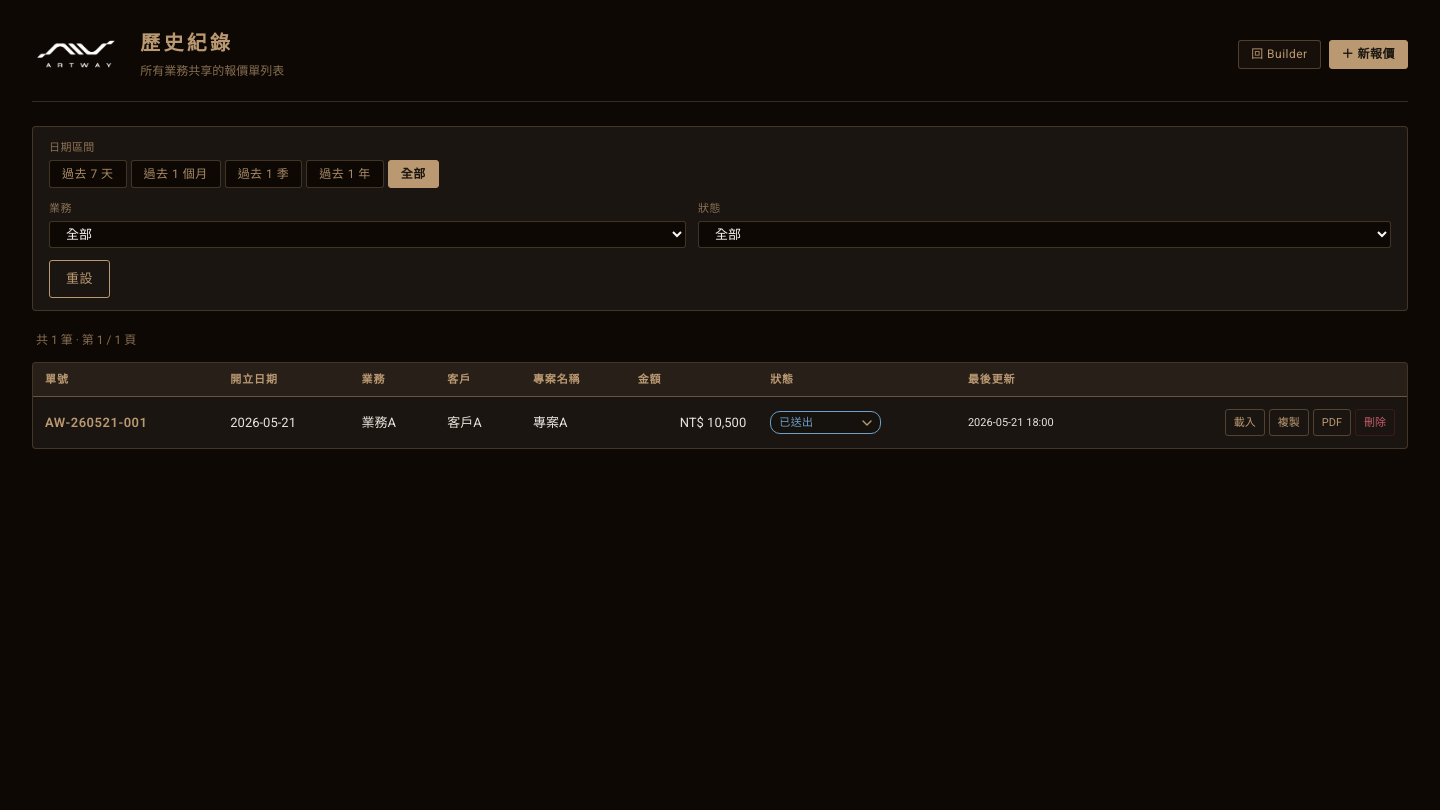
Test: History › deletes a row after confirming in the modal, then refetches (server pagination consistency)
Expected: the link "AW-260521-001" is shown, [45,414,148,430]
# Open the styled confirm modal, then confirm (legacy .hp-confirm, not window.confirm).
Click the button "刪除" at coordinates (1375, 423), box [1355,409,1395,436]
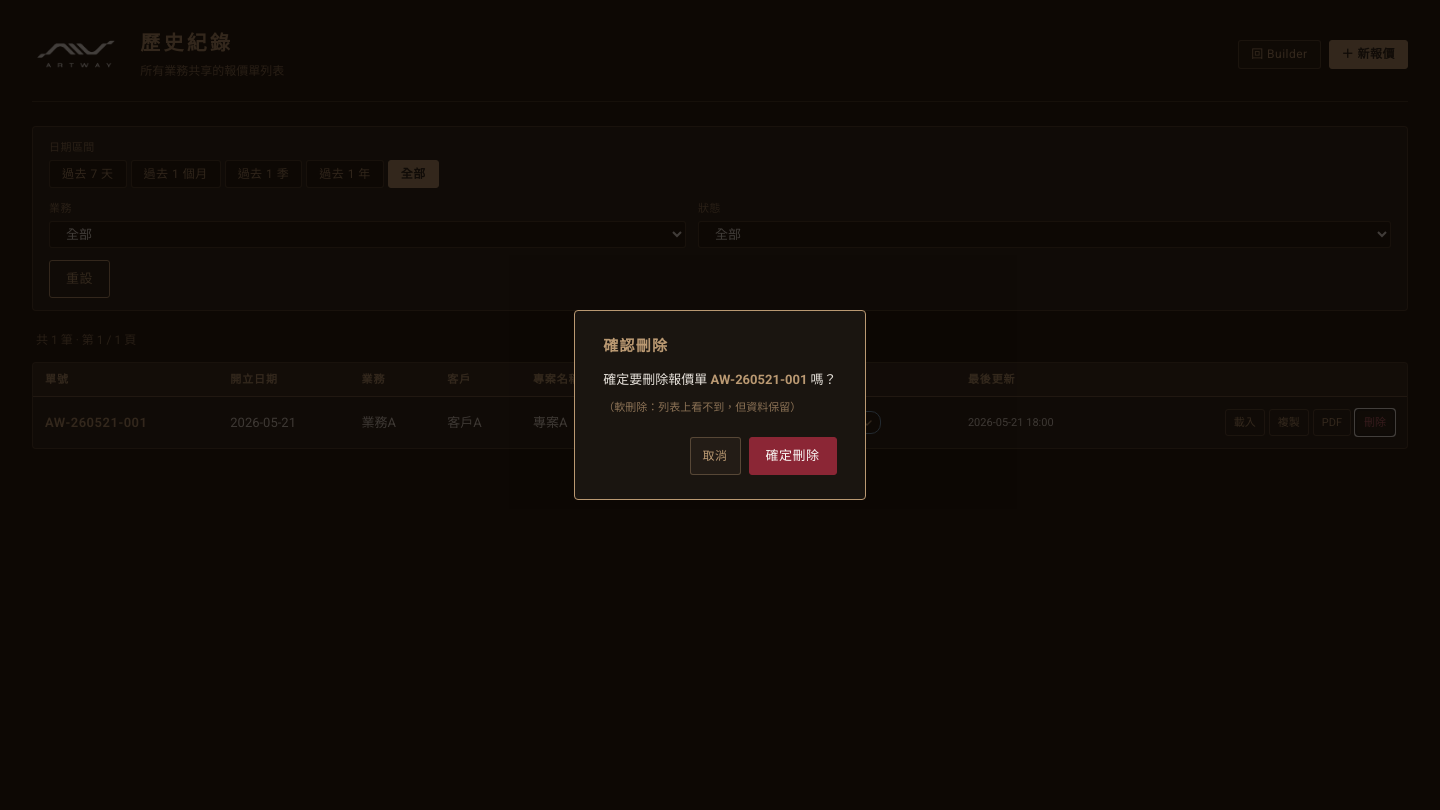
Click the button "確定刪除" at coordinates (793, 456), box [748,437,837,475]
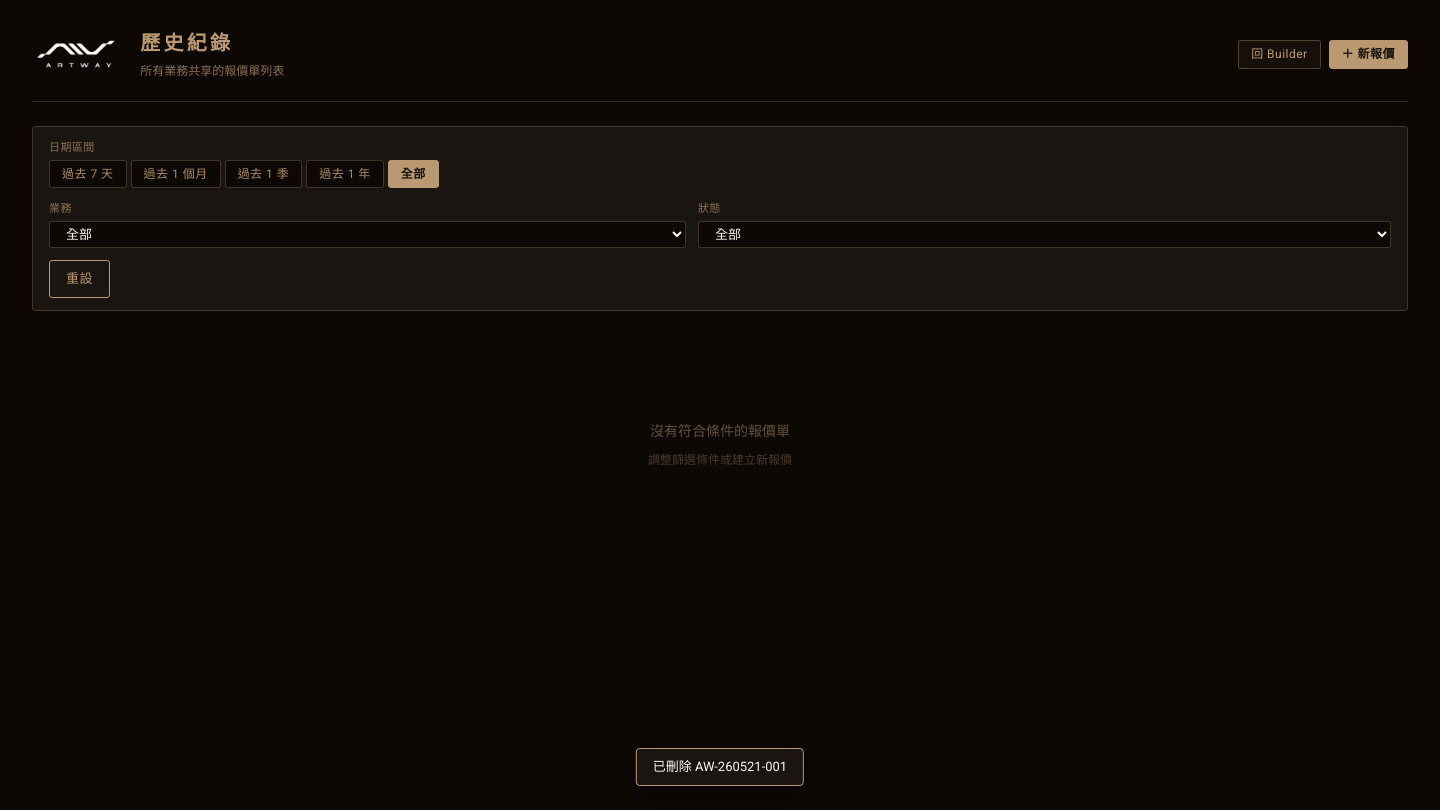
Expected: the text "沒有符合條件的報價單 調整篩選條件或建立新報價" is shown, [648,423,792,467]
